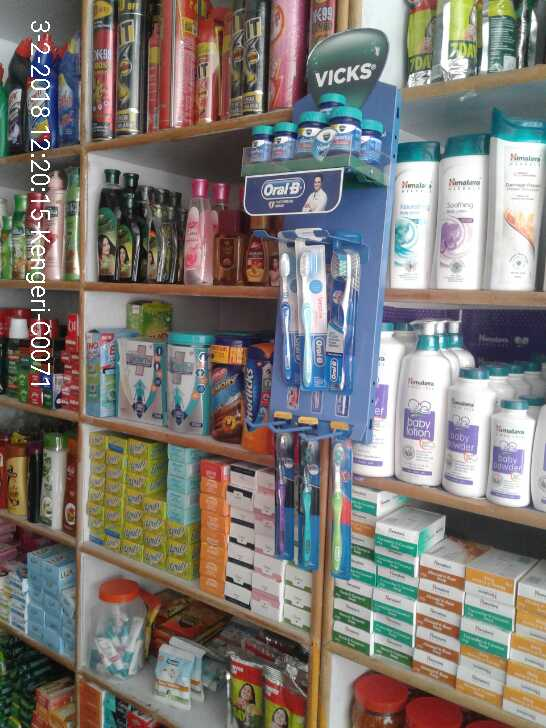pharmacy: (247, 88, 383, 158), (292, 250, 325, 395), (324, 252, 354, 394), (274, 249, 294, 382)
